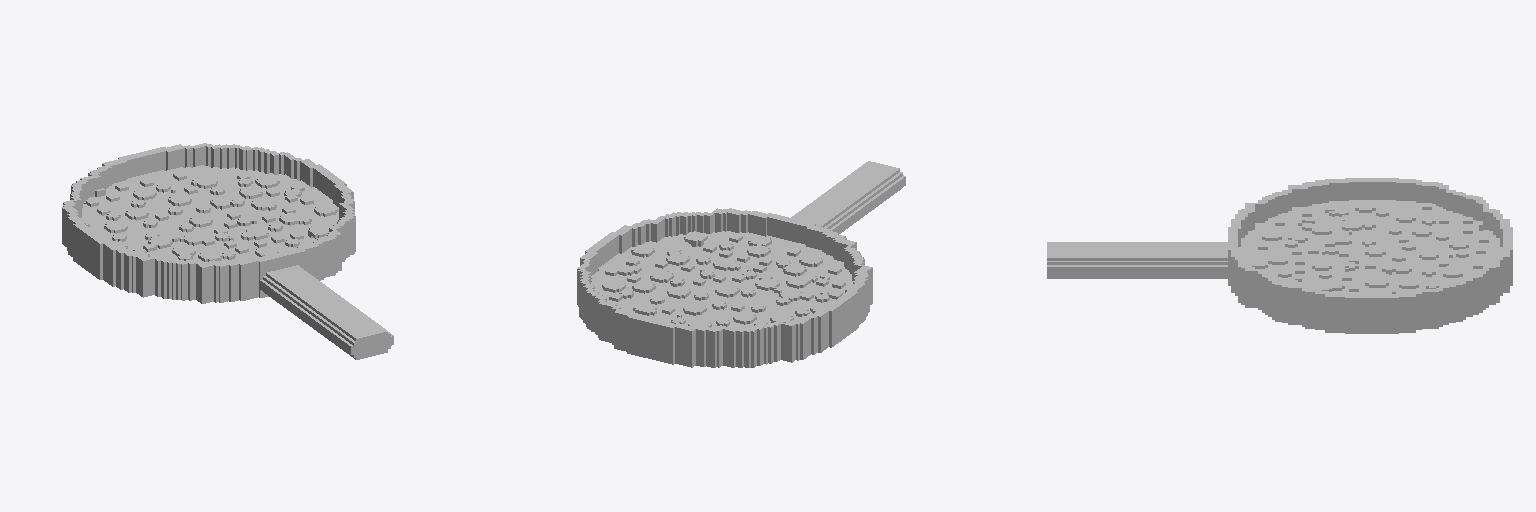
File: SartenArrozTomateCarneCebolla.obj
3 renders of one model, left to right at view 1: azimuth 30°, elevation 25°; view 2: azimuth 150°, elevation 25°; view 3: azimuth 270°, elevation 25°, orthographic.
Parts seen in each view (by area): view 1: object 1; view 2: object 1; view 3: object 1.
Boxes of the visible parts, box(x1,y1,x2,y2) form: object 1: box(62, 143, 393, 359); object 1: box(577, 161, 905, 367); object 1: box(1047, 178, 1512, 333).
Bounding box in the file's own units: 8.5 × 1.2 × 13.9.